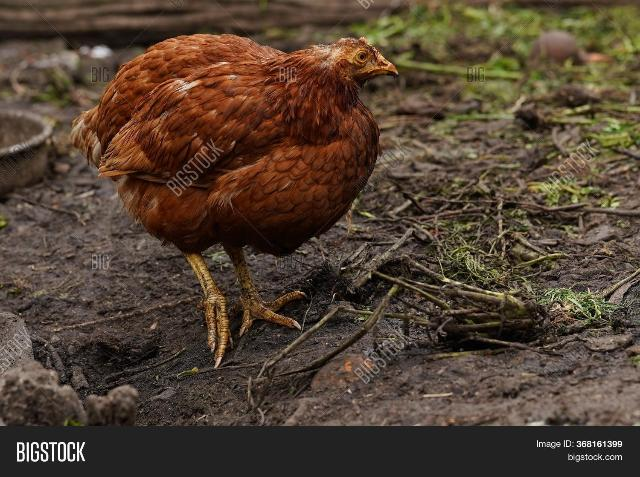Chicken: (71, 28, 398, 369)
